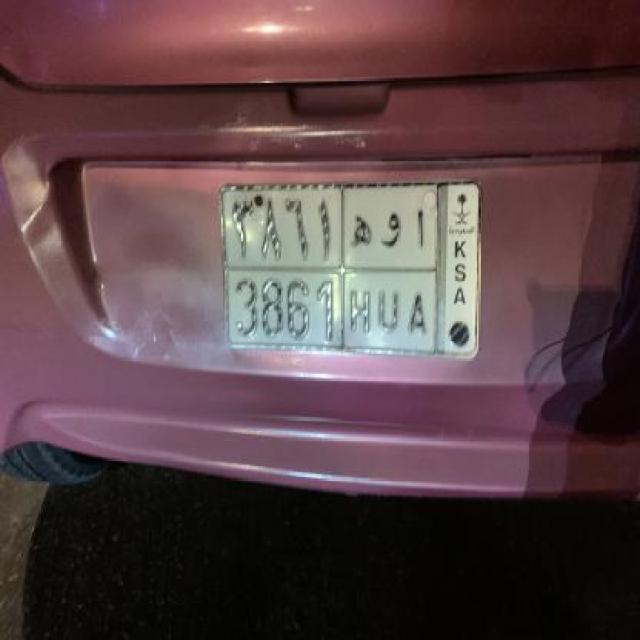license_plate: (216, 174, 487, 362)
